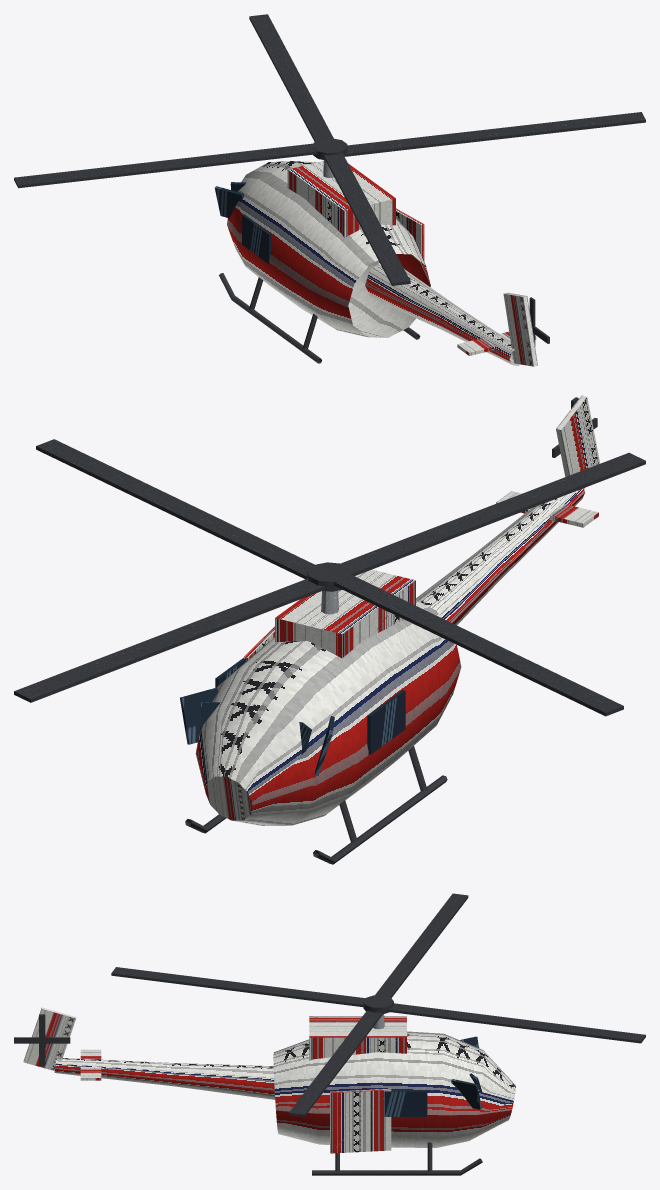
File: prop_heli.glb
3 renders of one model, top to bottom at view 1: azimuth 30°, elevation 25°; view 2: azimuth 150°, elevation 25°; view 3: azimuth 270°, elevation 25°, orthographic. The views are drawn at different scales.
Parts seen in each view (by area): view 1: prop_heli; view 2: prop_heli; view 3: prop_heli.
Boxes of the visible parts, x1,y1,x2,y2 form: prop_heli: [14, 14, 645, 366]; prop_heli: [14, 395, 645, 864]; prop_heli: [14, 893, 645, 1175].
Size of the model in its own units: 10.41 by 3.28 by 12.31.
Materials: 4 (4 with a texture image).
